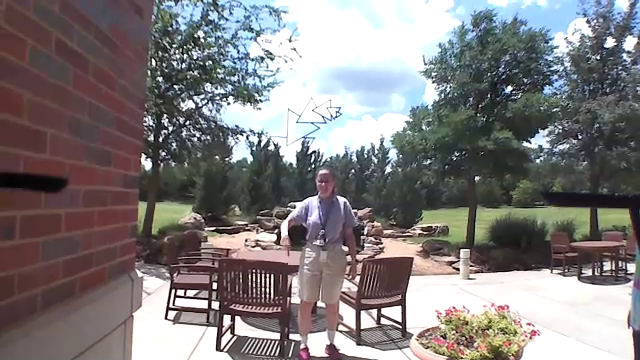down: (277, 233, 293, 260)
